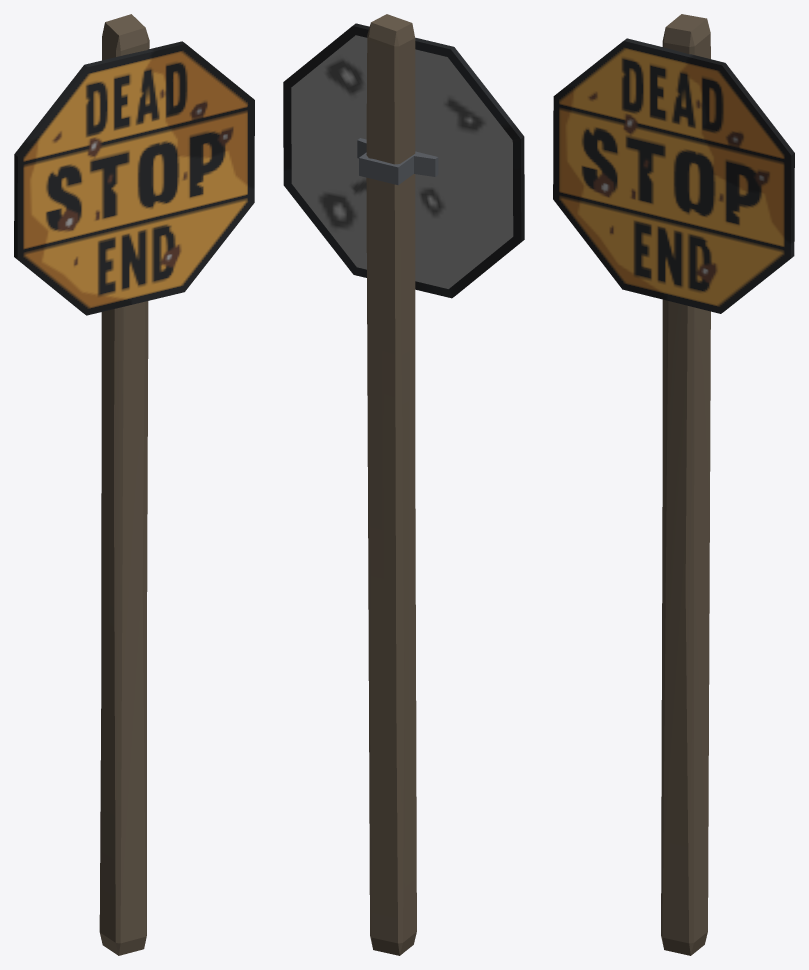
File: SM_Prop_Stop_Sign_01.glb
3 renders of one model, left to right at view 1: azimuth 30°, elevation 25°; view 2: azimuth 150°, elevation 25°; view 3: azimuth 330°, elevation 25°, orthographic.
Visible parts, largest first — view 1: SM_Prop_Stop_Sign_01; view 2: SM_Prop_Stop_Sign_01; view 3: SM_Prop_Stop_Sign_01.
Part boxes in pixels (<box>): SM_Prop_Stop_Sign_01: <box>14,14,254,955</box>; SM_Prop_Stop_Sign_01: <box>283,14,524,955</box>; SM_Prop_Stop_Sign_01: <box>553,14,794,955</box>.
Size of the model in its own units: 0.6117 by 2.27 by 0.1076.
Materials: 1 (1 with a texture image).
